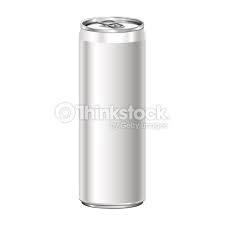Aluminum can: (68, 16, 162, 213)
